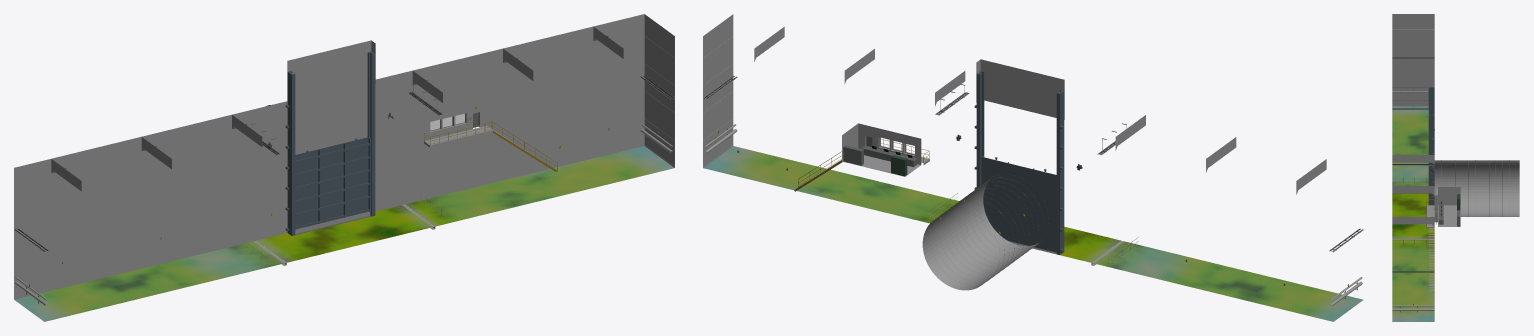
File: cistern_end_upstream.glb
The picture shows the model from 3 angles, left to right: view 1: azimuth 30°, elevation 25°; view 2: azimuth 150°, elevation 25°; view 3: azimuth 270°, elevation 25°; orthographic projection. The views are drawn at different scales.
Visible parts, largest first — view 1: CIS_Shell, CIS_Floor, CIS_InflowGate_Steel, CIS_Steel, CIS_Galv; view 2: CIS_Shell, CIS_Floor, CIS_InflowGate_Steel, CIS_Steel, CIS_Interior, CIS_Galv; view 3: CIS_Shell, CIS_Floor, CIS_Steel, CIS_Galv, CIS_Interior, CIS_Grate.
Boxes of the visible parts, <box> form: CIS_Shell: <box>14,14,674,299</box>; CIS_Floor: <box>14,146,674,321</box>; CIS_InflowGate_Steel: <box>295,137,370,229</box>; CIS_Steel: <box>15,51,673,303</box>; CIS_Galv: <box>14,76,674,305</box>; CIS_Shell: <box>703,14,1326,290</box>; CIS_Floor: <box>703,146,1363,321</box>; CIS_InflowGate_Steel: <box>981,155,1056,252</box>; CIS_Steel: <box>704,70,1362,299</box>; CIS_Interior: <box>842,123,921,176</box>; CIS_Galv: <box>703,76,1363,305</box>; CIS_Shell: <box>1392,14,1519,228</box>; CIS_Floor: <box>1392,106,1434,321</box>; CIS_Steel: <box>1392,57,1503,312</box>; CIS_Galv: <box>1392,57,1434,310</box>; CIS_Interior: <box>1438,187,1460,226</box>; CIS_Grate: <box>1392,228,1434,290</box>.
Bounding box in the file's own units: 90.03 × 23.85 × 22.5.
